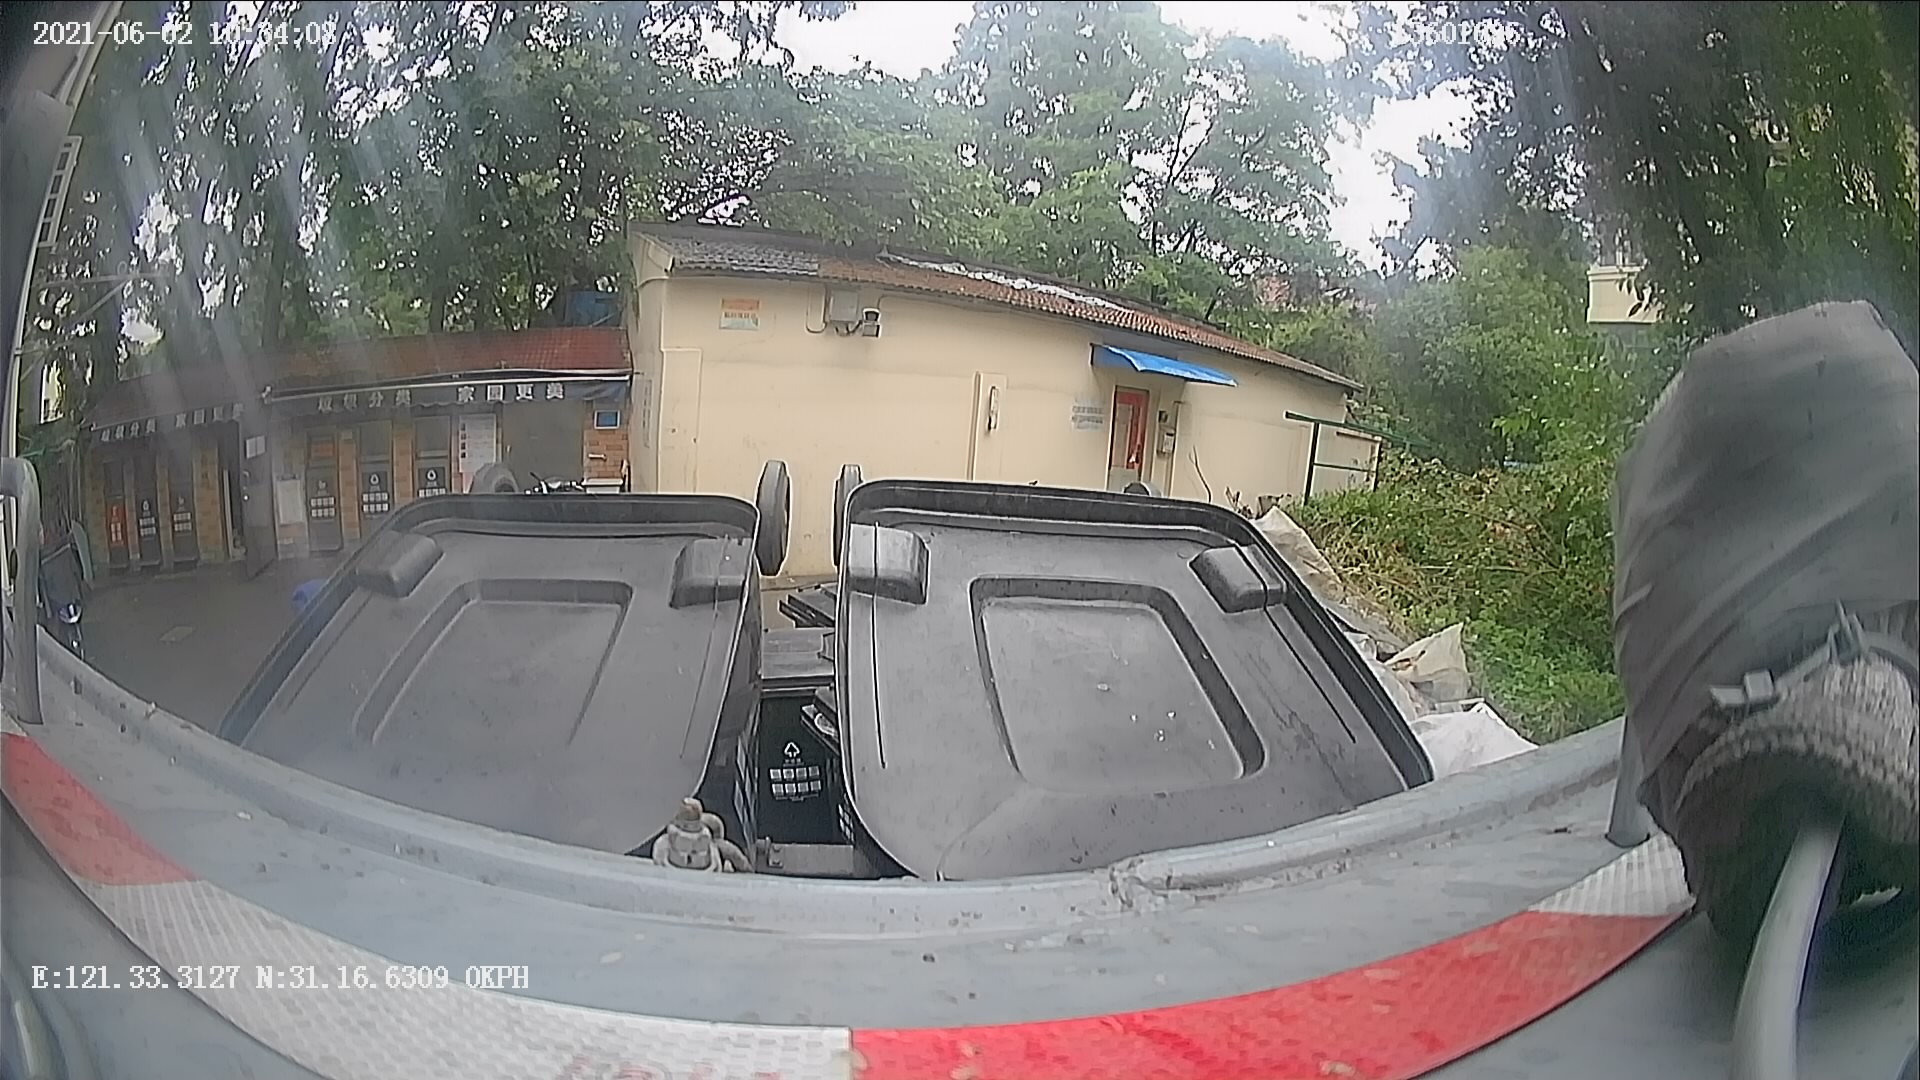Dry_garbage: (804, 436, 1300, 1065), (219, 434, 725, 1021)
